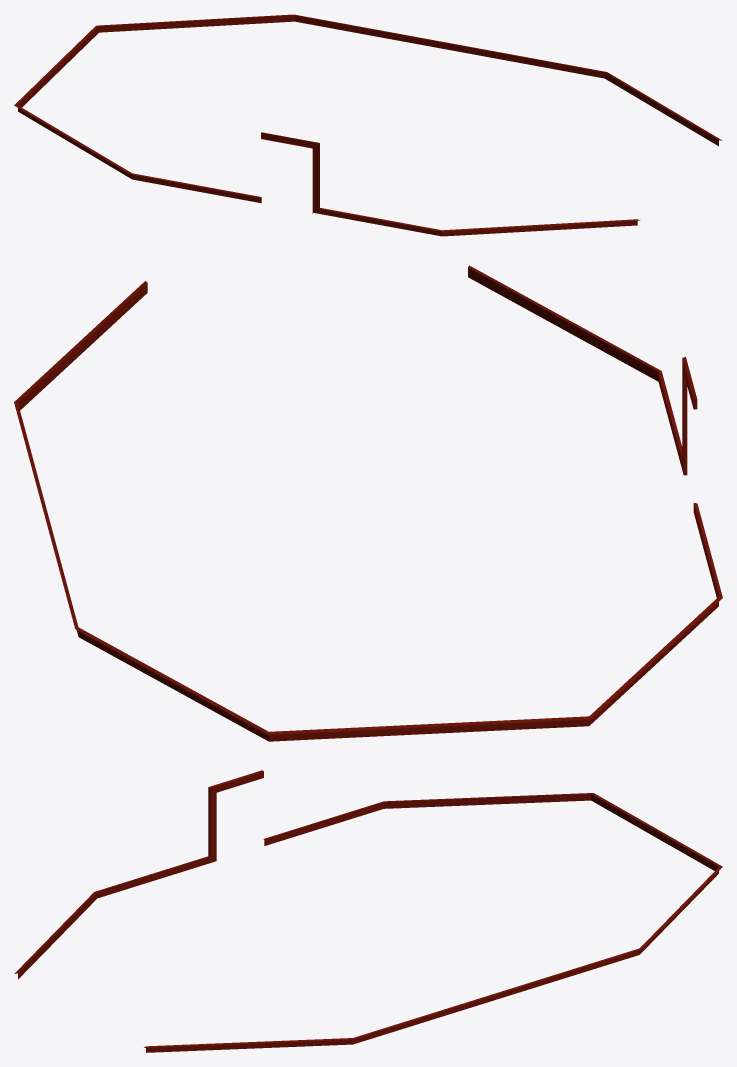
File: Room3_Lights1.fbx
3 views of the same model, one above another, from view 1: azimuth 30°, elevation 25°; view 2: azimuth 150°, elevation 25°; view 3: azimuth 270°, elevation 25° (orthographic). The views are drawn at different scales.
Parts seen in each view (by area): view 1: Lining; view 2: Lining; view 3: Lining.
Part boxes in pixels (box(x1,y1,x2,y2)): Lining: box(14, 14, 721, 236); Lining: box(14, 265, 722, 741); Lining: box(14, 770, 722, 1052).
Size of the model in its own units: 0.2084 by 0.0289 by 0.2447.
